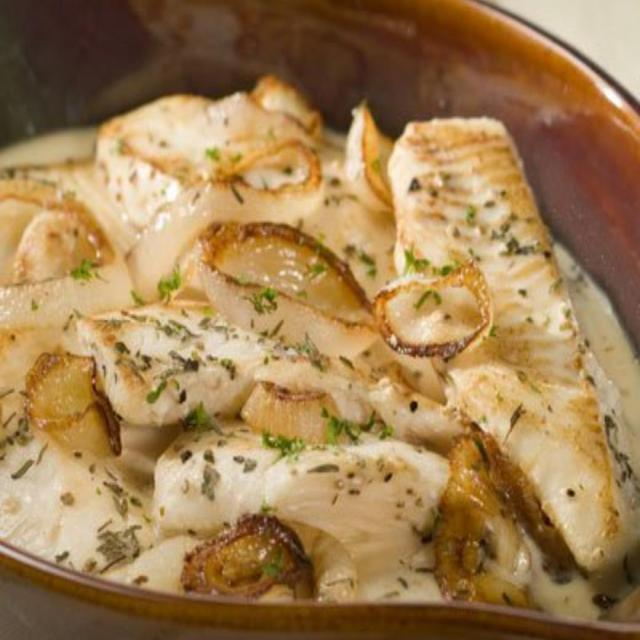pollo: (373, 100, 632, 578)
